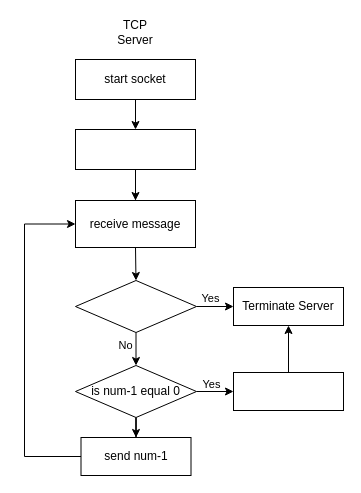
The diagram is 361 pixels wide and 493 high, and some of its shapes have lost their labels. The centre of each missing label's shape, as x and y in pixels:
"connected" goes at [135,149].
"is end message" goes at [135,306].
"send end message" goes at [288,391].
